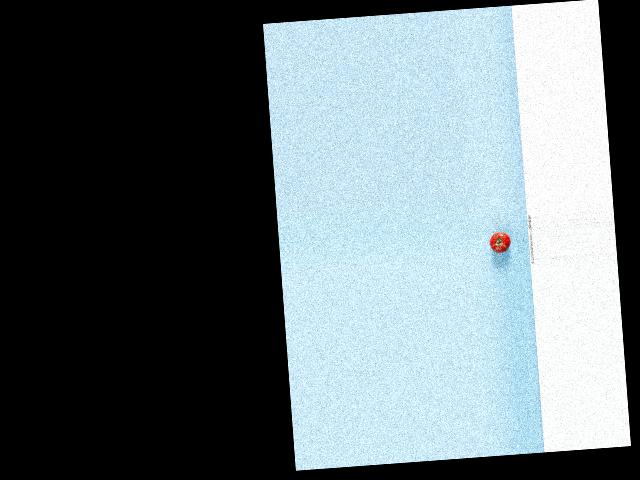tomato: (489, 231, 512, 252)
